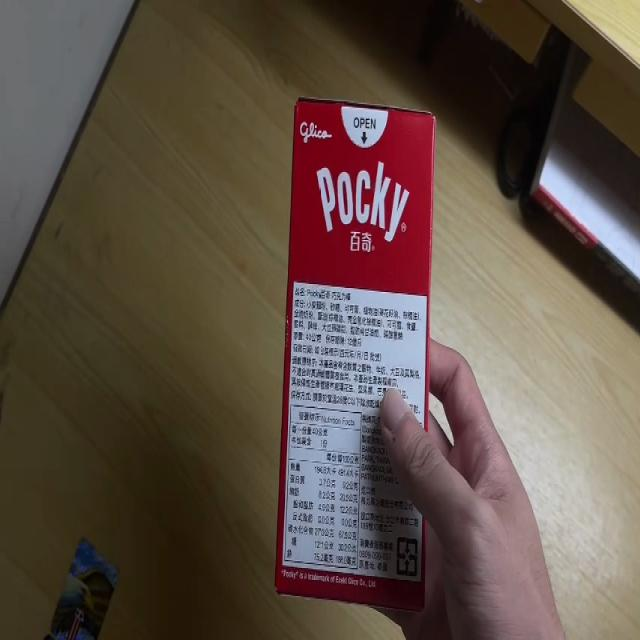Pocky: (272, 98, 438, 614)
